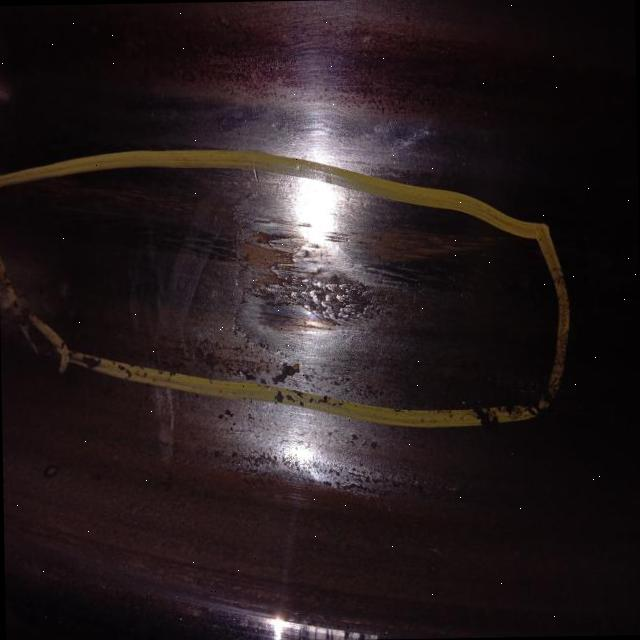Rollerpile: (211, 219, 381, 337)
